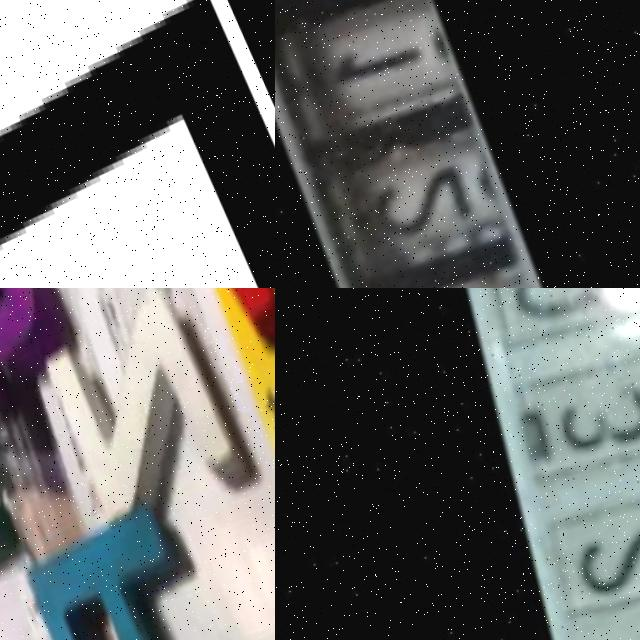0: (488, 288, 634, 353)
1: (302, 12, 440, 125)
2: (345, 144, 485, 266), (541, 498, 640, 623)
3: (530, 362, 640, 482)
I: (146, 288, 275, 363)
L: (0, 0, 275, 288)
P: (7, 507, 231, 640)
S: (0, 288, 77, 426)
Z: (25, 294, 248, 539)
